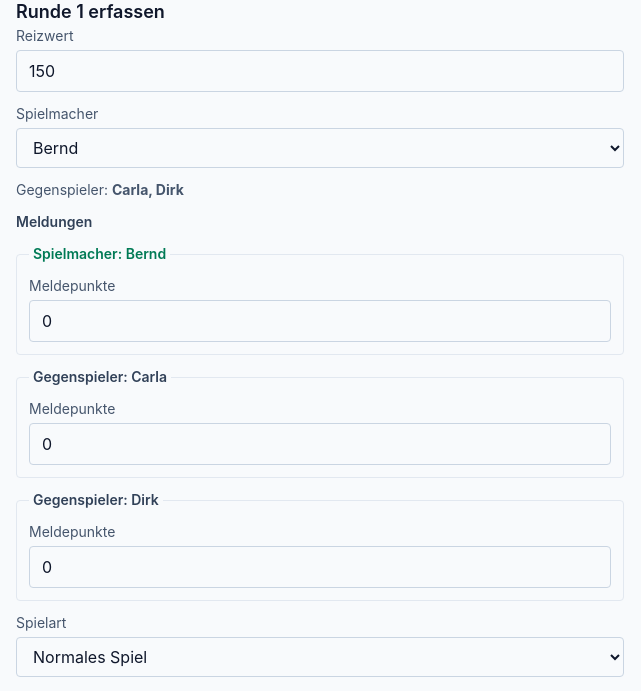
RundeForm › weist auf doppeltes Abgehen hin, wenn der Spielmacher den Reizwert nicht erreicht (012.7)
Replace the text in the number field with test id "reizwert" with "200" at {"x": 320, "y": 71}, box [16,50,624,92]
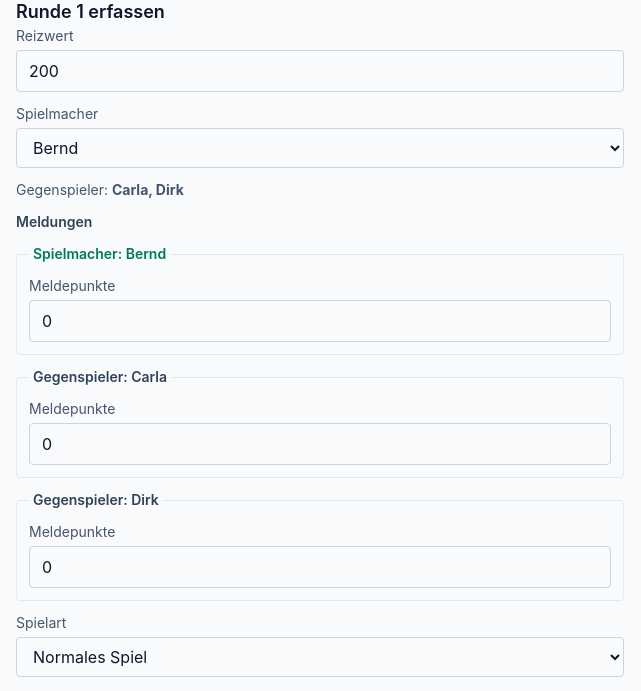
Replace the text in the number field with test id "sm-meldepunkte" with "20" at {"x": 320, "y": 321}, box [29,300,611,342]
(page scrolled)
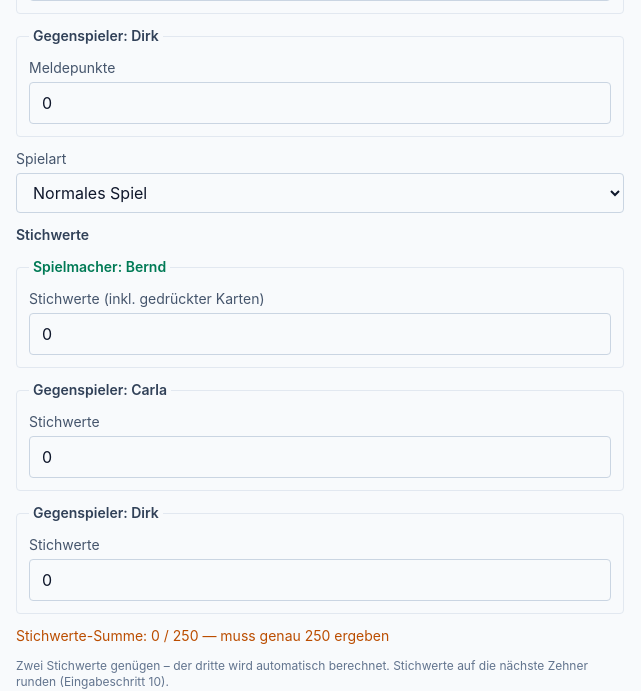
Replace the text in the number field with test id "sm-stichwerte" with "130" at {"x": 320, "y": 334}, box [29,313,611,355]
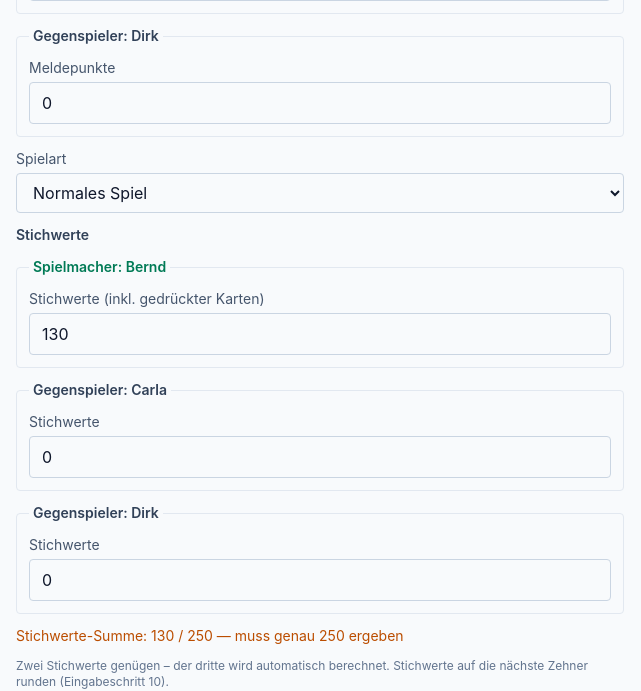
Replace the text in the number field with test id "gs-stichwerte-Carla" with "60" at {"x": 320, "y": 457}, box [29,436,611,478]
(page scrolled)
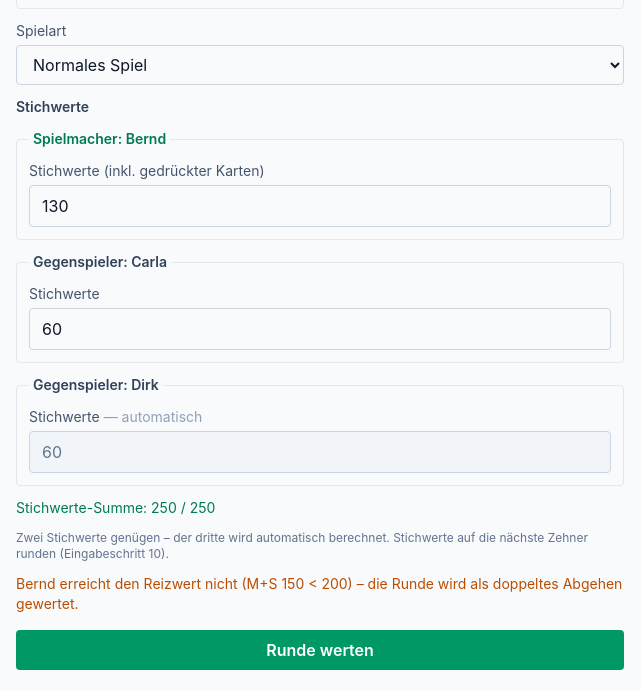
Expected: the text with test id "doppeltes-abgehen-hinweis" is shown, [16,574,624,614]
